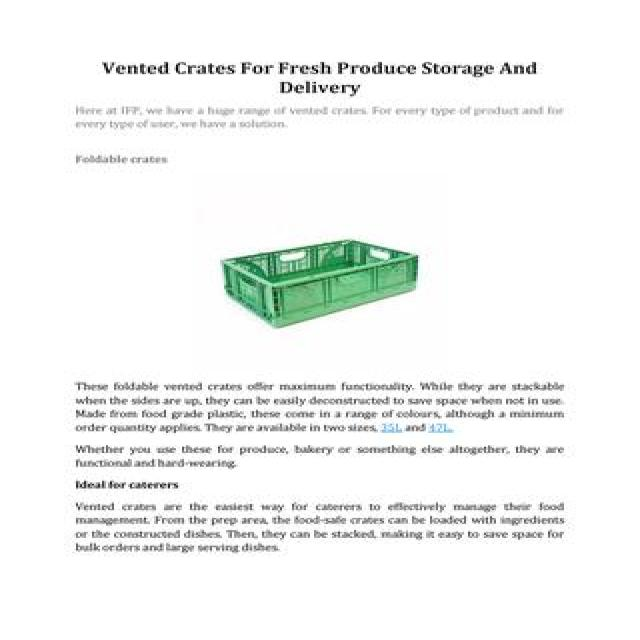basket: (218, 210, 427, 340)
